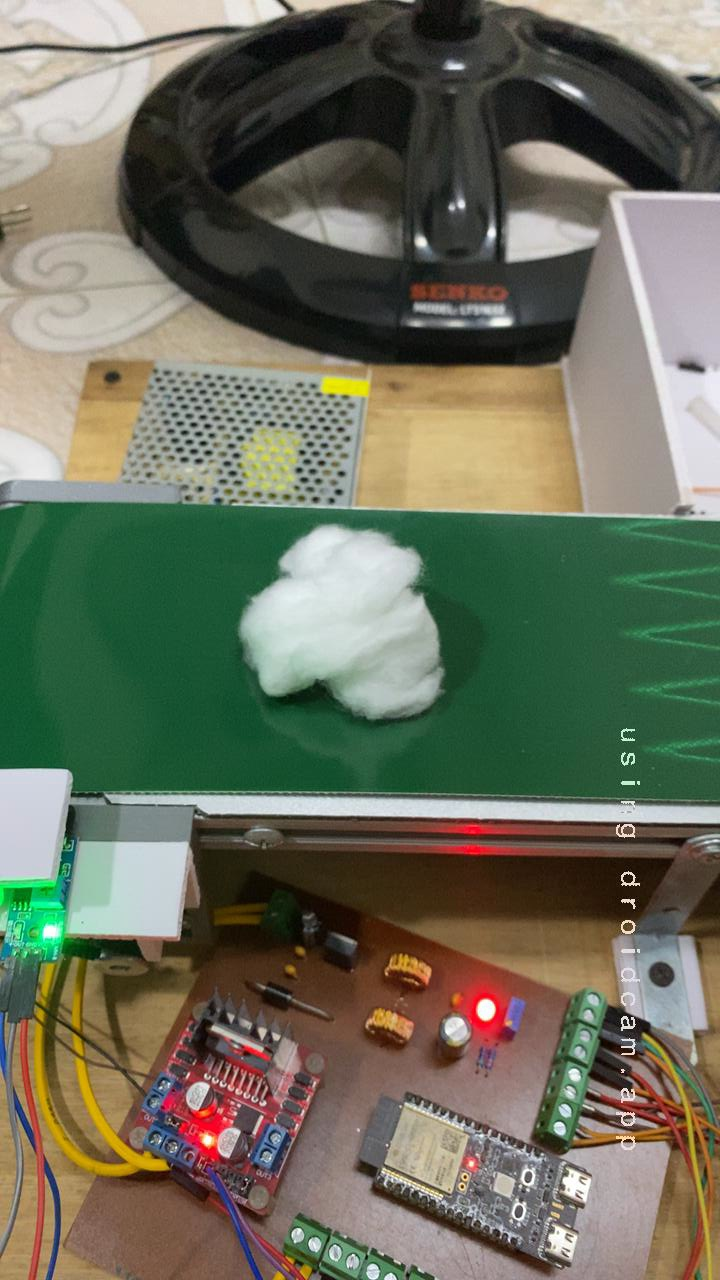cotton: (209, 518, 469, 749)
